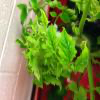Tomato leaf yellow virus: (59, 26, 78, 69), (45, 19, 58, 60), (75, 37, 89, 74)
